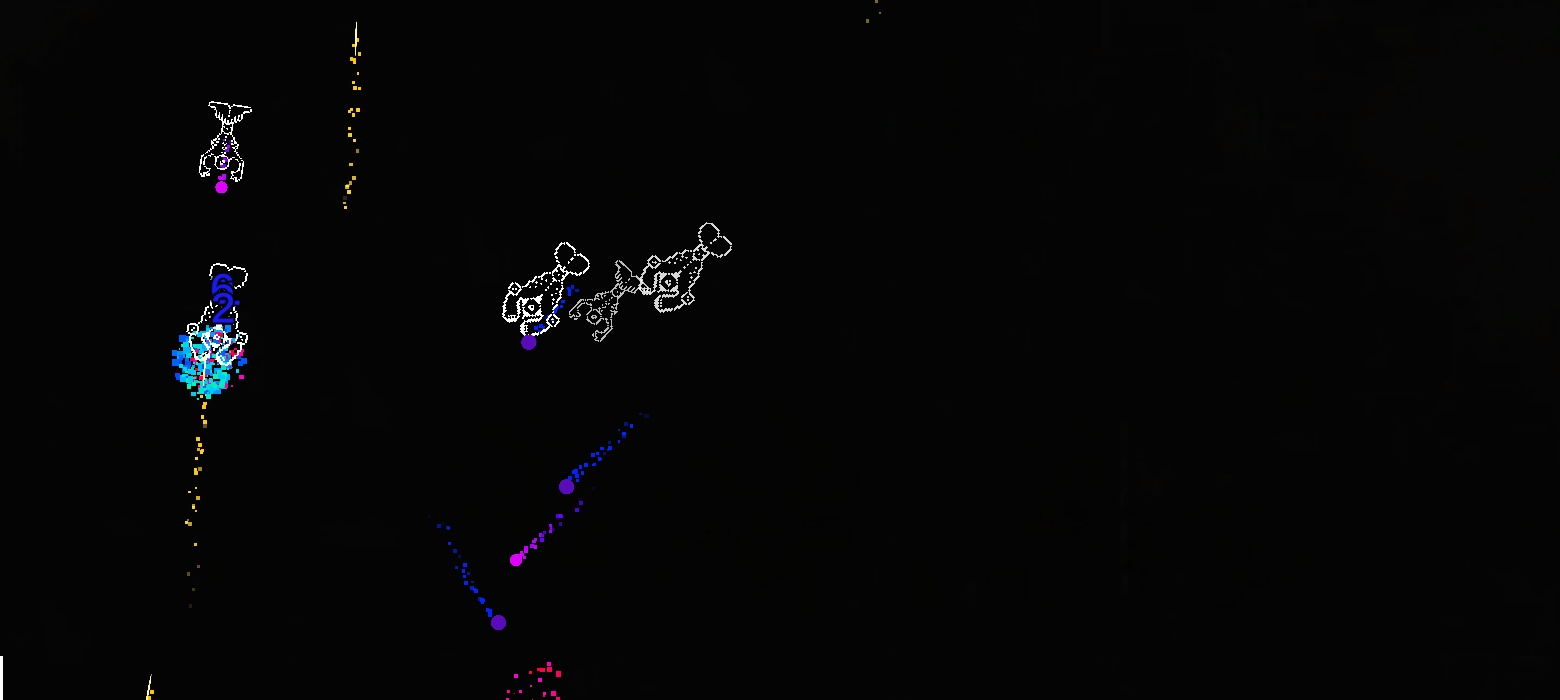enemy: (638, 222, 733, 314), (502, 242, 590, 336), (568, 260, 652, 343), (186, 261, 248, 366), (198, 100, 253, 183)
